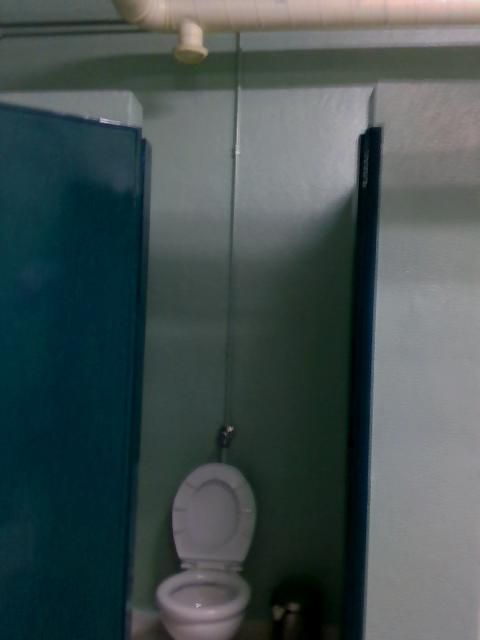open_door: (100, 122, 384, 639)
